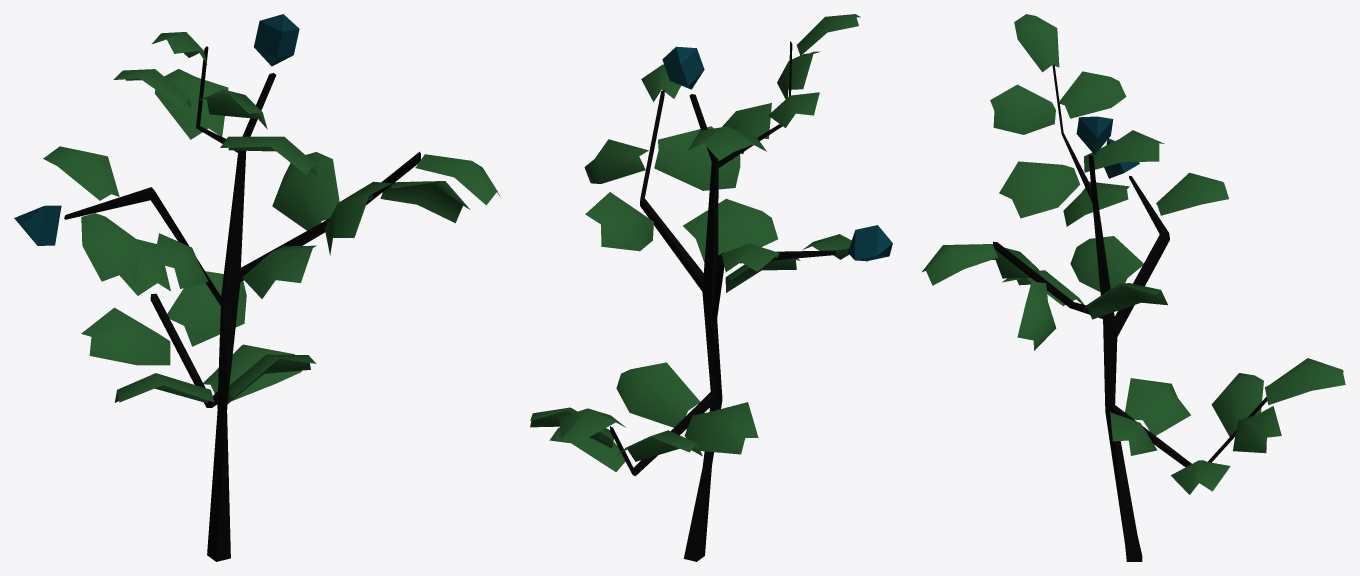
Rendered from BranchFlower.fbx.
The picture shows the model from 3 angles, left to right: view 1: azimuth 30°, elevation 25°; view 2: azimuth 150°, elevation 25°; view 3: azimuth 270°, elevation 25°; orthographic projection. The views are drawn at different scales.
Visible parts, largest first — view 1: BranchFlower; view 2: BranchFlower; view 3: BranchFlower.
Boxes of the visible parts, x1=… form: BranchFlower: x1=14, y1=14, x2=500, y2=561; BranchFlower: x1=530, y1=14, x2=892, y2=561; BranchFlower: x1=922, y1=14, x2=1345, y2=561.
Bounding box in the file's own units: 2.01 × 2.89 × 2.24.
